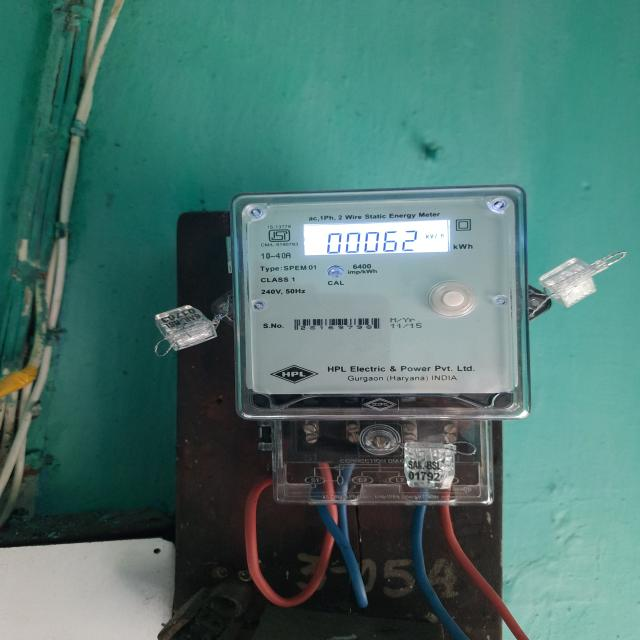display: (300, 219, 453, 259)
